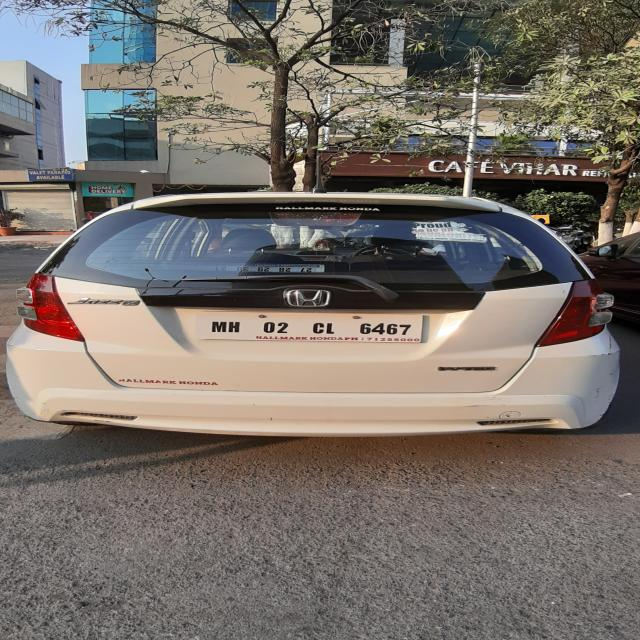Number-Plate: (205, 314, 416, 341)
